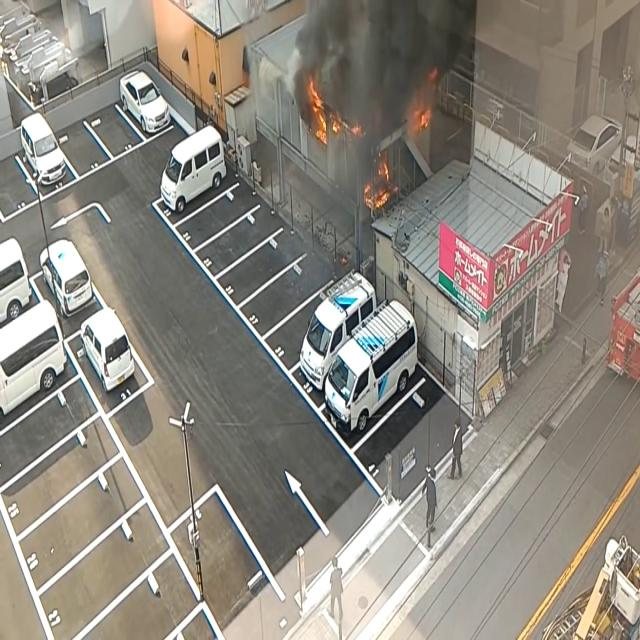Fire: (304, 70, 330, 146), (362, 154, 393, 216)
Smoke: (290, 0, 472, 174)
